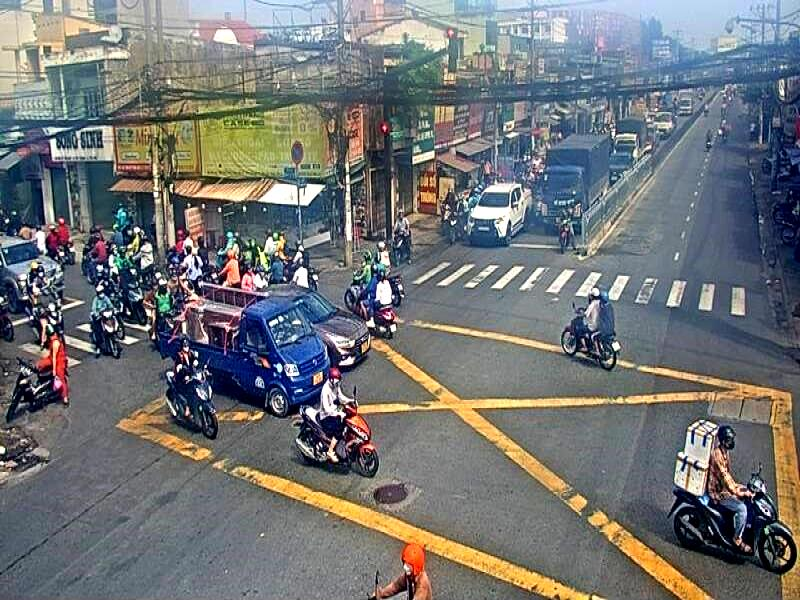car: (258, 284, 371, 370), (465, 183, 526, 247), (608, 152, 636, 183)
motorcycle: (670, 473, 800, 572), (291, 407, 378, 475), (3, 355, 66, 424), (165, 366, 221, 439), (560, 314, 620, 370), (88, 306, 122, 359)
truck: (160, 299, 332, 419), (542, 139, 608, 238), (614, 116, 646, 166)
